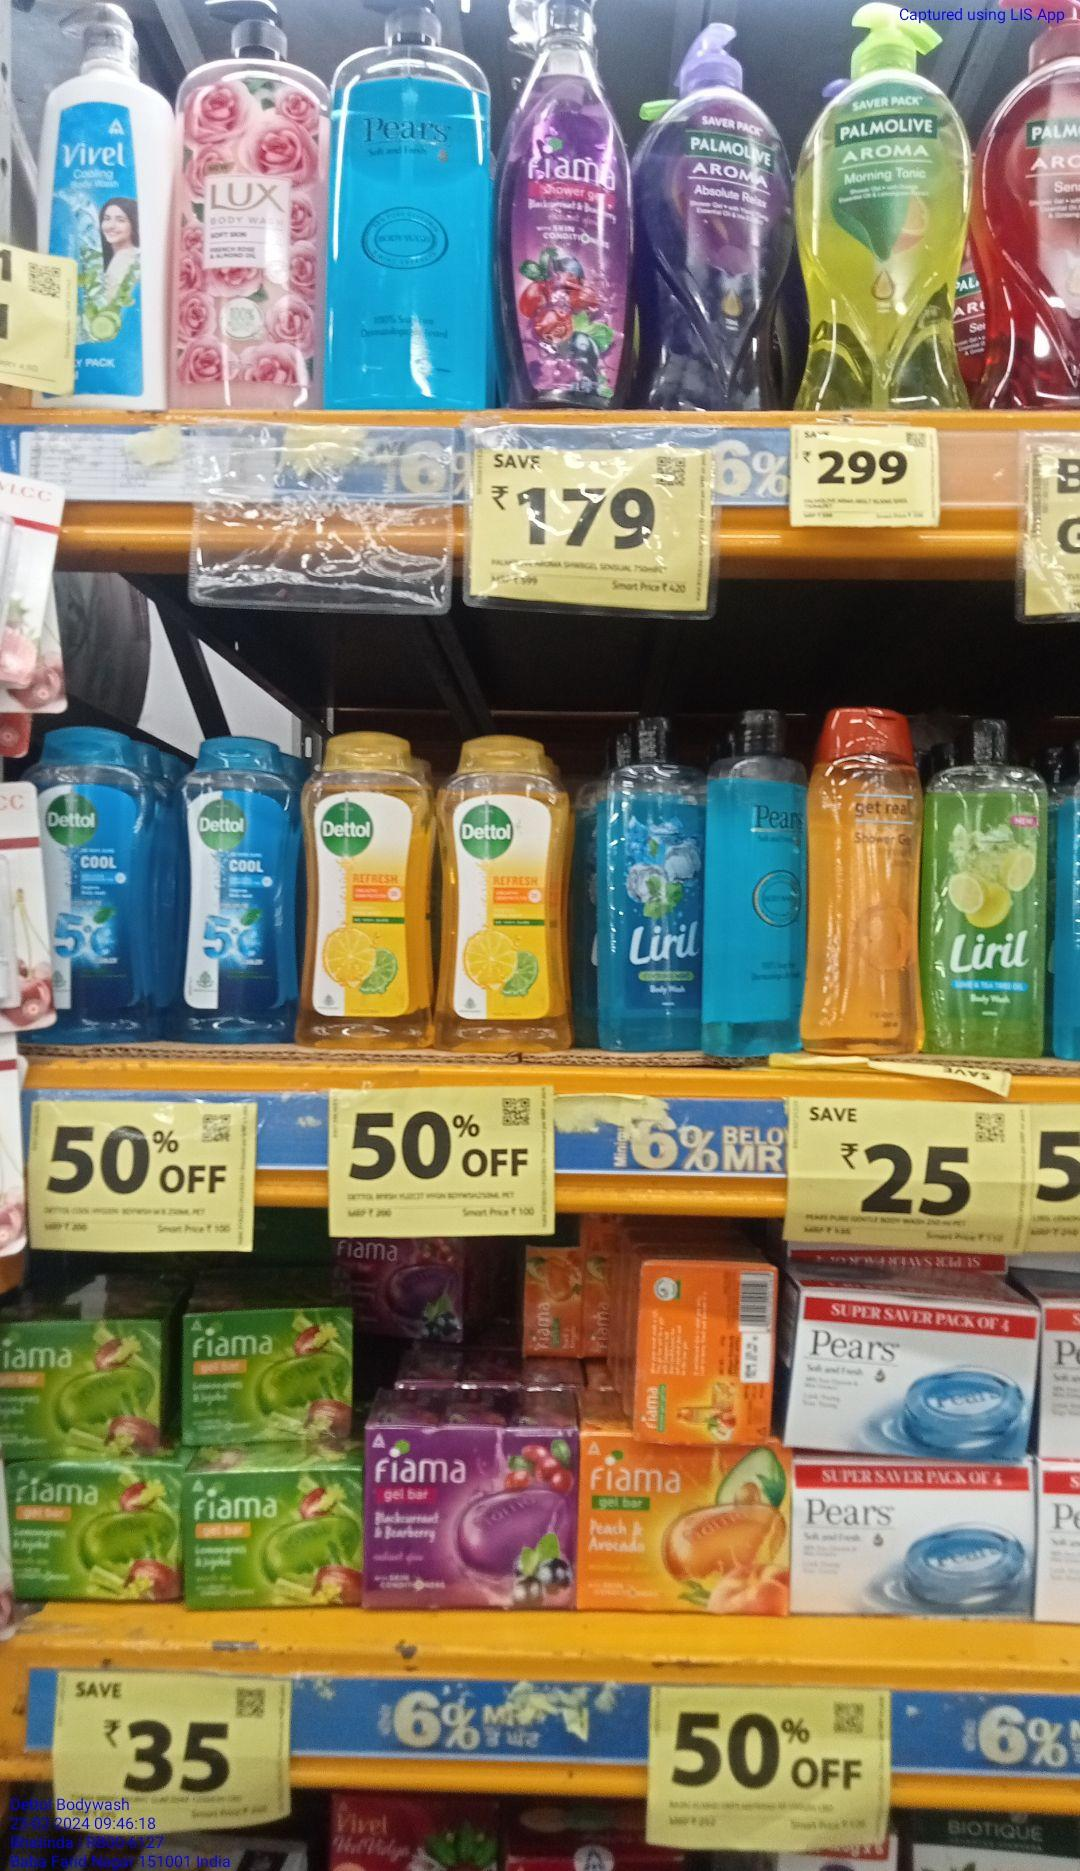Dettol_Bodywash_Cool: (27, 722, 167, 1045), (180, 732, 294, 1047)
Dettol_Bodywash_Refresh: (305, 730, 437, 1045), (447, 730, 567, 1045)
Get_Real_Shower_Gel_Moisturising_Glycerin_300ML: (813, 705, 927, 1050)
Liril_Cooling_Mint_Body_Wash_250ML: (595, 722, 710, 1050)
Liril_Lime_and_Tea_Tree_Oil_Body_Wash_250ML: (937, 714, 1050, 1055)
Pears_Pure_Glycerin_and_Mint_Extracts_Body_Wash_250ML: (707, 708, 805, 1052)
